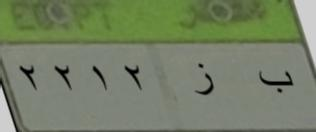1: (89, 63, 110, 99)
2: (120, 62, 148, 98), (48, 60, 76, 96), (18, 61, 40, 97)
baa: (258, 64, 296, 95)
zay: (187, 62, 216, 104)
